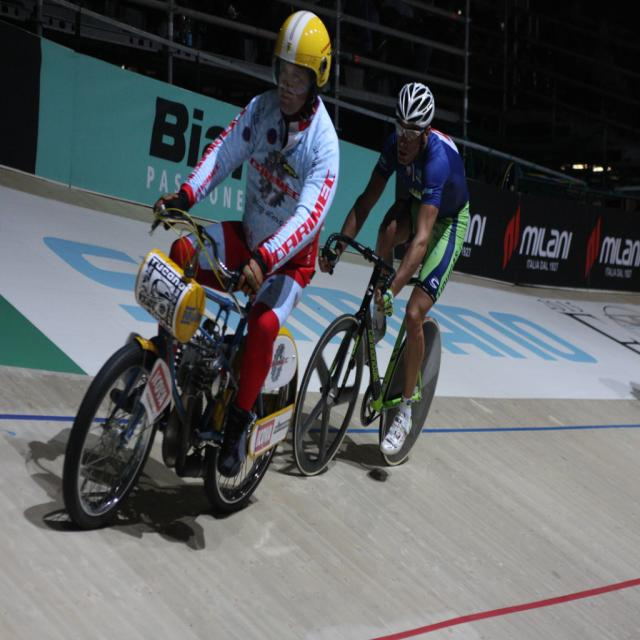Person: (153, 10, 340, 478), (319, 82, 469, 454)
